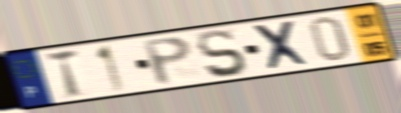0: (307, 15, 354, 64)
1: (94, 41, 126, 94)
P: (140, 34, 195, 87)
S: (195, 28, 250, 80)
T: (43, 47, 84, 100)
X: (249, 19, 315, 73)
